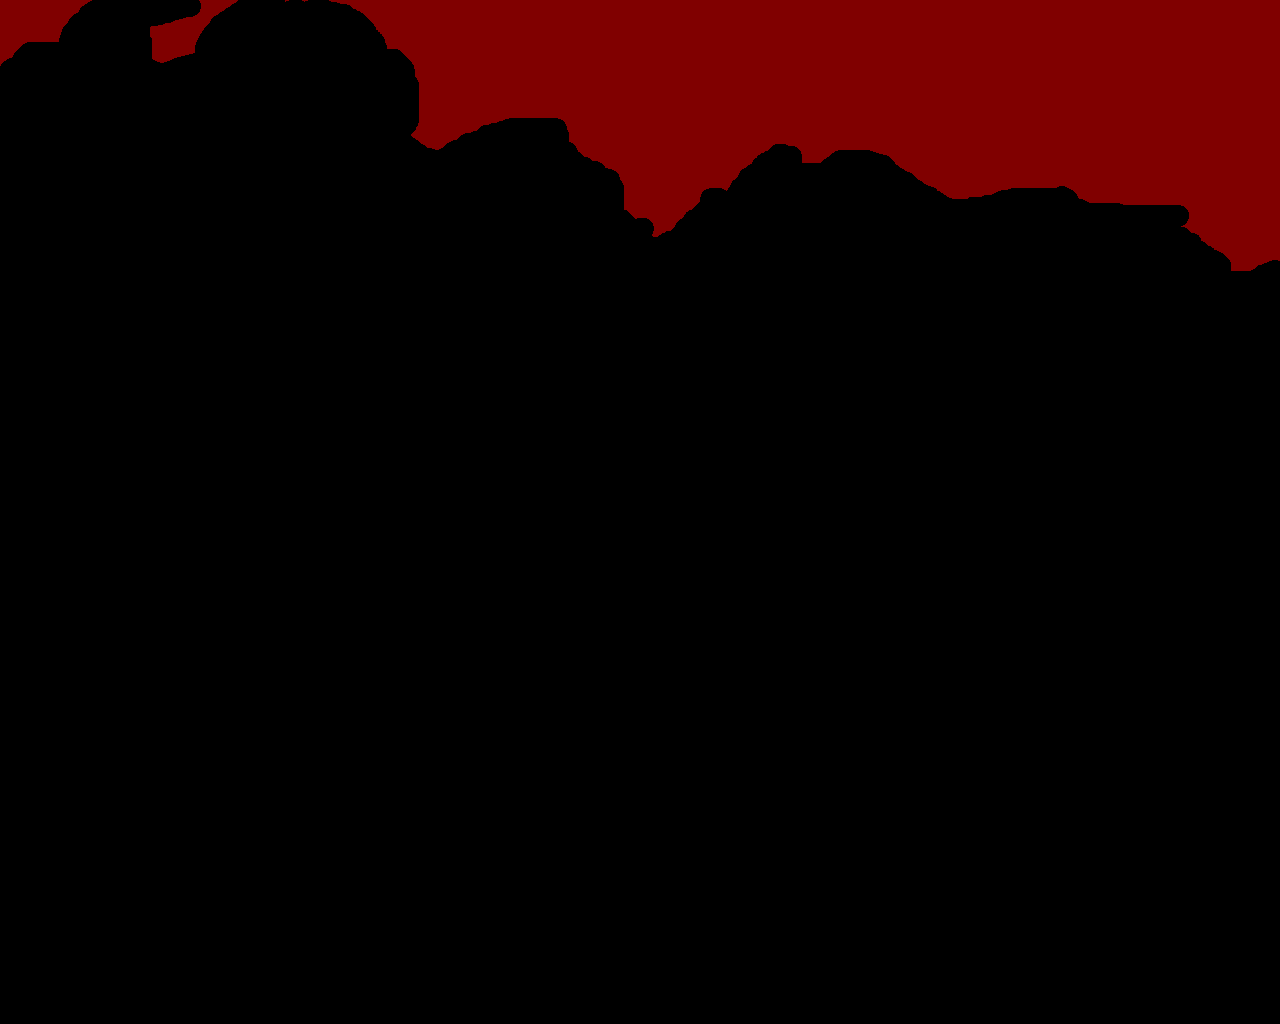Sky: (1, 1, 1279, 271)
